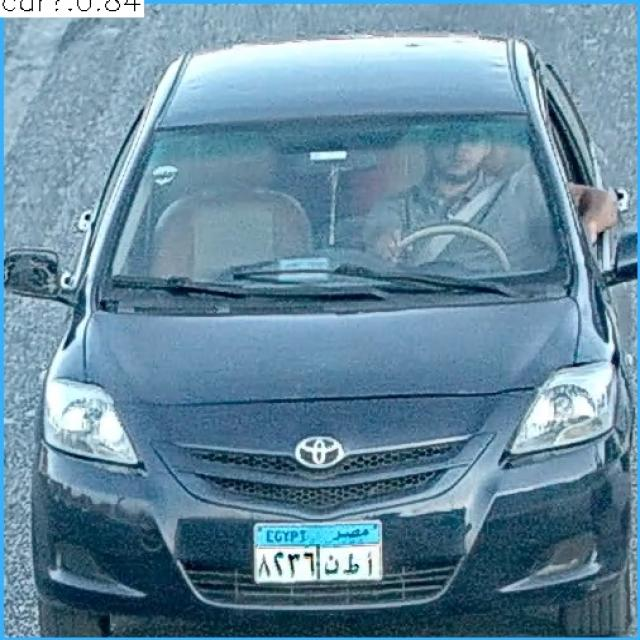windshield: (91, 116, 571, 282)
